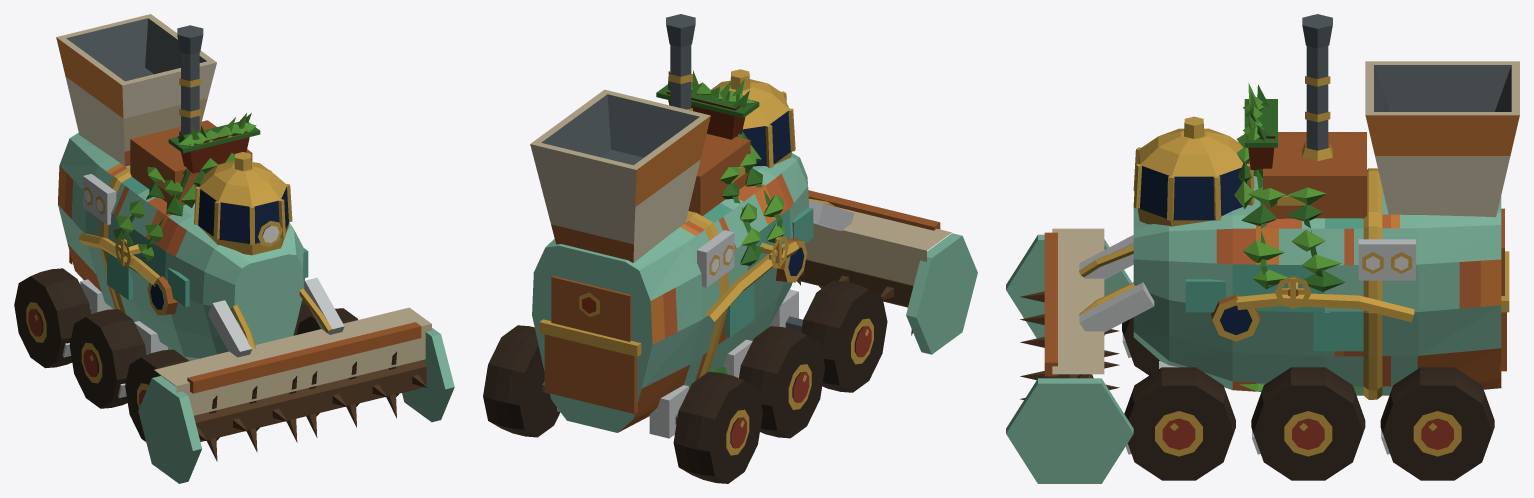
Rendered from drum-wheel-harvester-0408c0.glb.
3 views of the same model, side by side, from view 1: azimuth 30°, elevation 25°; view 2: azimuth 150°, elevation 25°; view 3: azimuth 270°, elevation 25° (orthographic). The views are drawn at different scales.
Visible parts, largest first — view 1: hull, reel-mesh, wheel-rl-mesh, wheel-ml-mesh, planter-mesh, wheel-fl-mesh, wheel-fr-mesh; view 2: hull, wheel-rl-mesh, wheel-fl-mesh, wheel-ml-mesh, wheel-rr-mesh, planter-mesh, reel-mesh; view 3: hull, wheel-rr-mesh, wheel-mr-mesh, wheel-fr-mesh, planter-mesh, reel-mesh, wheel-fl-mesh.
Boxes of the visible parts, x1,y1,x2,y2 form: hull: [56, 14, 454, 483]; reel-mesh: [194, 351, 427, 461]; wheel-rl-mesh: [14, 268, 91, 368]; wheel-ml-mesh: [69, 309, 146, 408]; planter-mesh: [168, 113, 260, 207]; wheel-fl-mesh: [125, 349, 188, 441]; wheel-fr-mesh: [296, 308, 358, 334]; hull: [530, 14, 977, 438]; wheel-rl-mesh: [673, 372, 762, 483]; wheel-fl-mesh: [785, 280, 887, 392]; wheel-ml-mesh: [739, 326, 825, 438]; wheel-rr-mesh: [483, 325, 560, 437]; planter-mesh: [656, 70, 761, 162]; reel-mesh: [797, 259, 913, 335]; hull: [1006, 14, 1519, 483]; wheel-rr-mesh: [1380, 367, 1494, 480]; wheel-mr-mesh: [1251, 367, 1365, 480]; wheel-fr-mesh: [1124, 367, 1235, 480]; planter-mesh: [1234, 83, 1277, 208]; reel-mesh: [1020, 291, 1119, 399]; wheel-fl-mesh: [1122, 317, 1159, 375].
Bounding box in the file's own units: 4.26 × 5.3 × 6.12.
